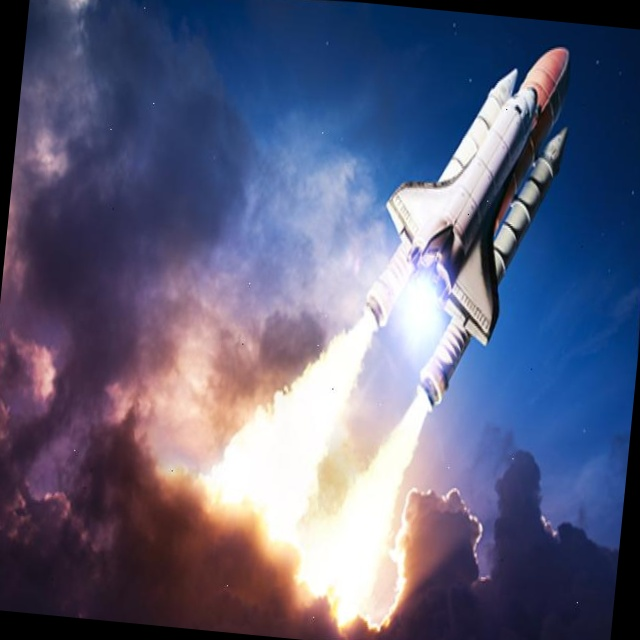rocket: (368, 61, 554, 357)
